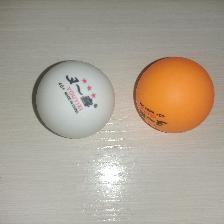WhiteBall: (34, 60, 115, 138)
YellowBall: (133, 56, 215, 134)
